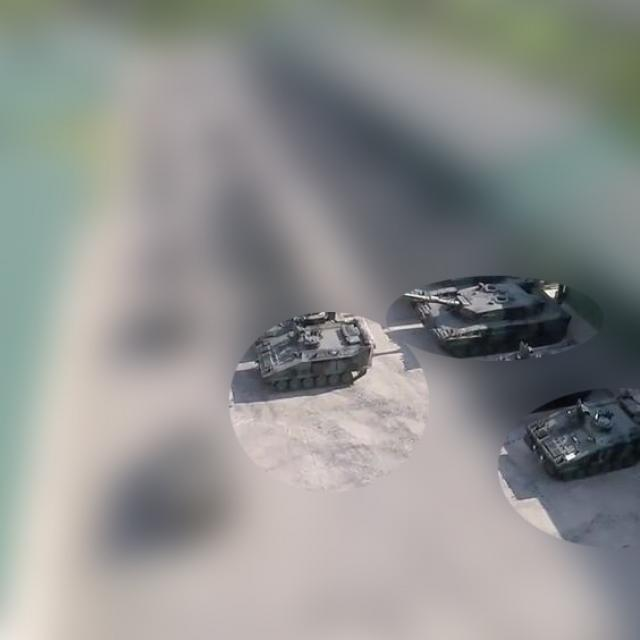tank: (397, 273, 579, 360), (227, 308, 370, 390), (521, 394, 640, 474)
